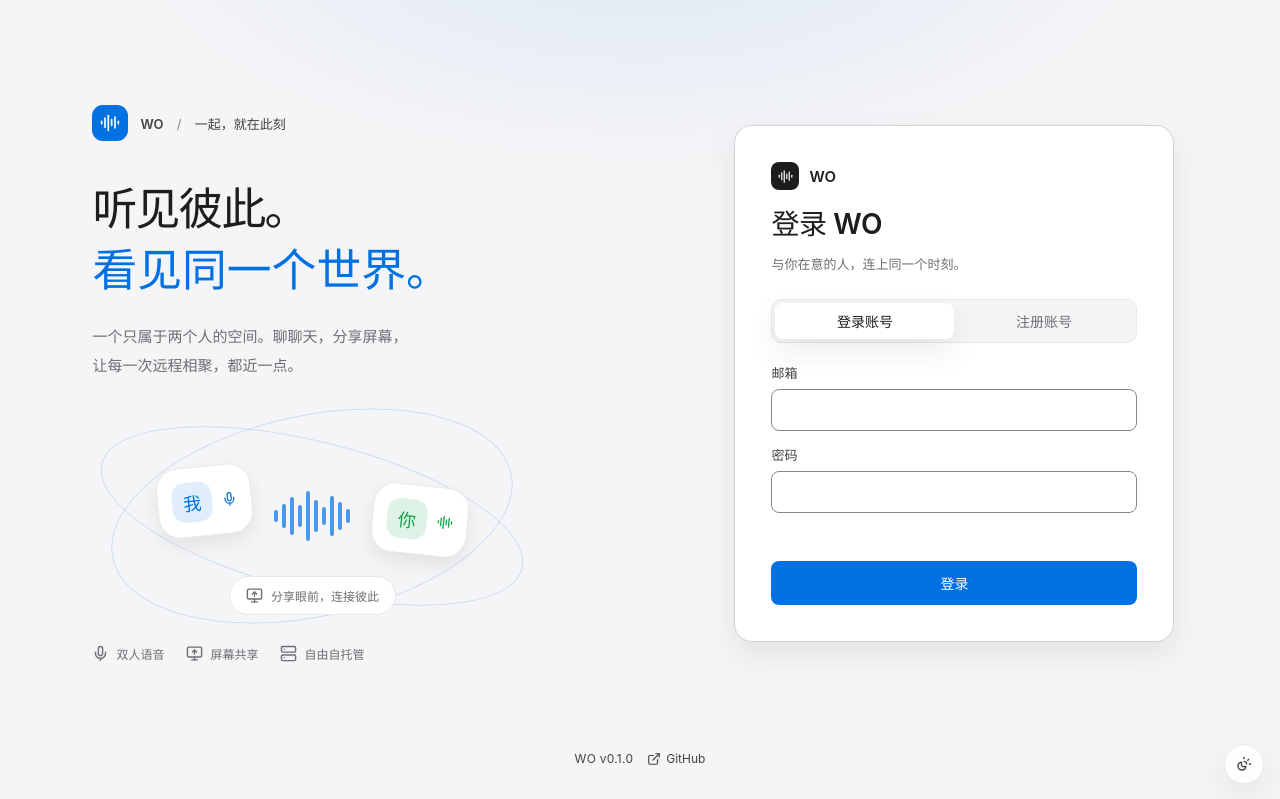
Test case: desktop account and room workflow › registers with display-name validation and opens the home surface
The image size is (1280, 799).
Expected: the 2nd heading named "登录 WO" is shown, [771,207,882,241]
Click the 2nd tab named "注册账号" at (1044, 321), box [954,303,1133,339]
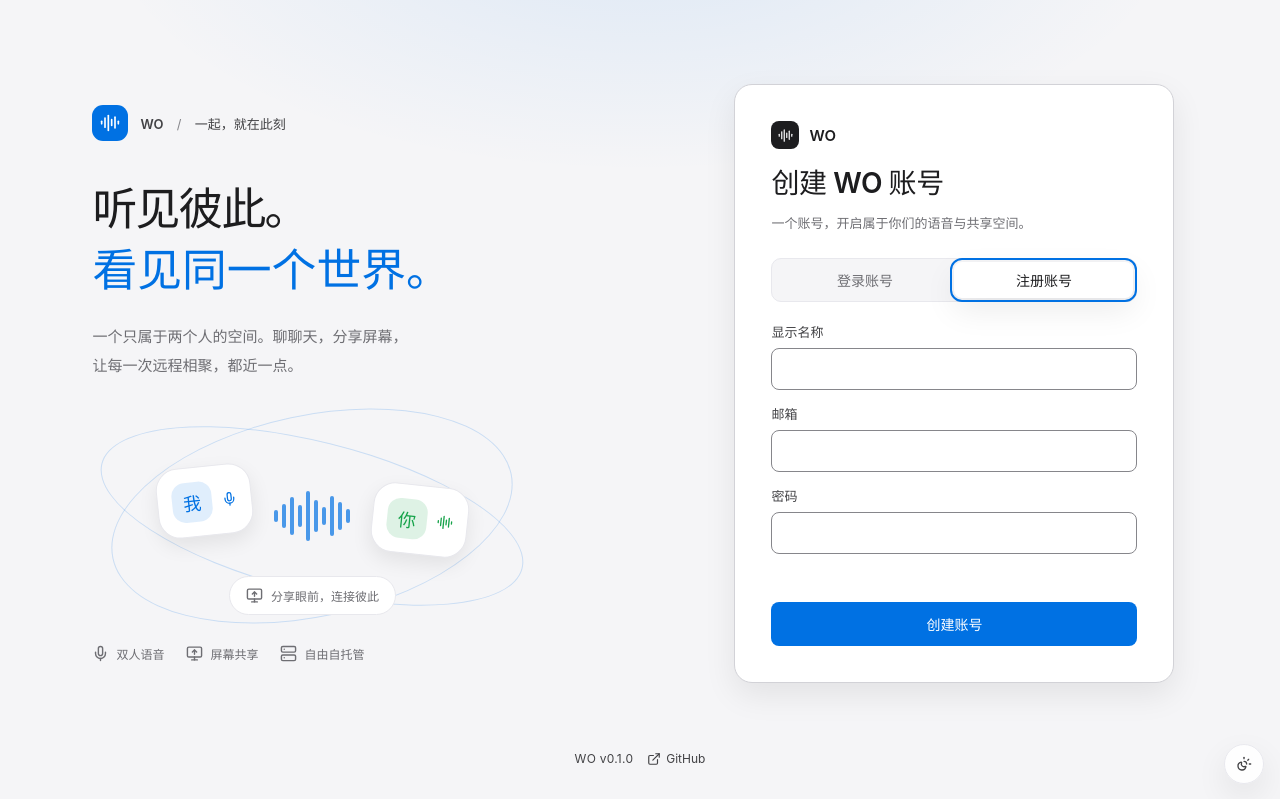
Type "new@example.cn" into the 2nd field named "邮箱" at (954, 451), box [771,430,1137,472]
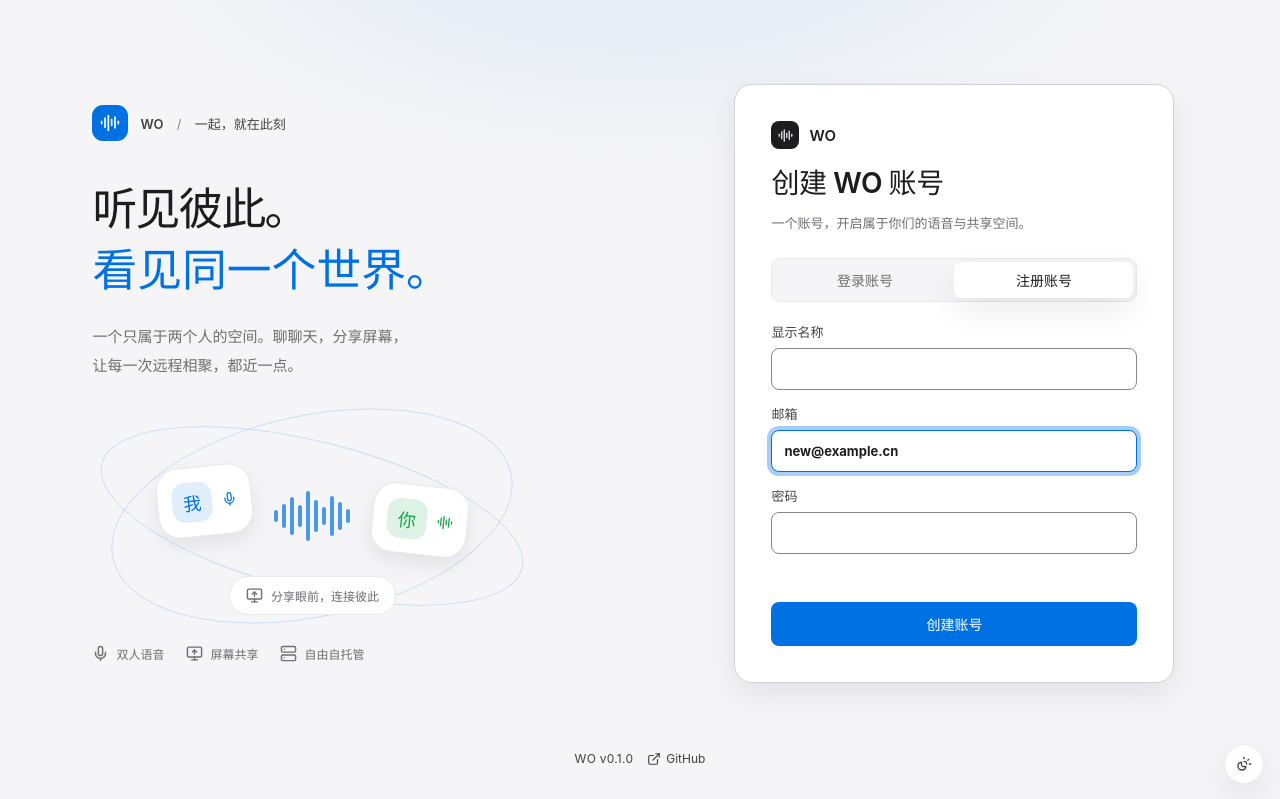
Type "long-password" into the password field named "密码" at (954, 533), box [771,512,1137,554]
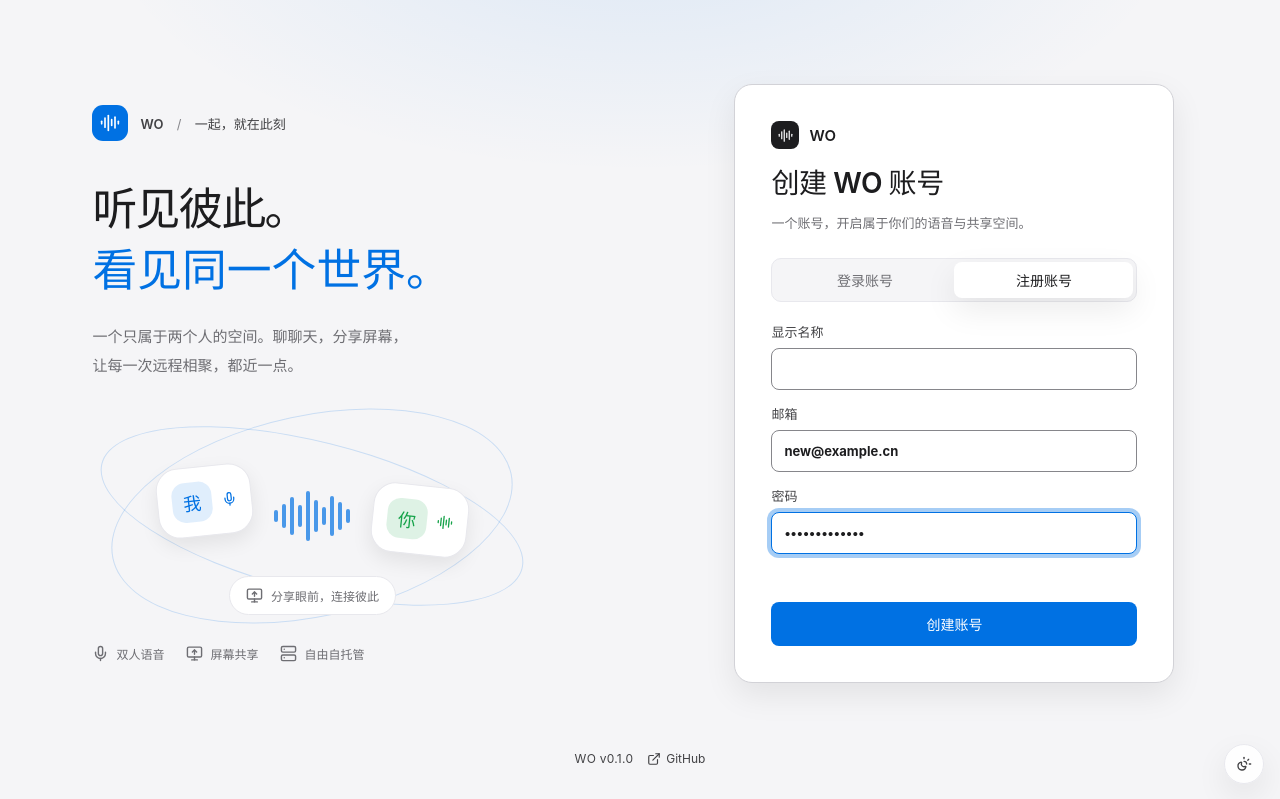
Click the button named "创建账号" at (954, 624), box [771,602,1137,646]
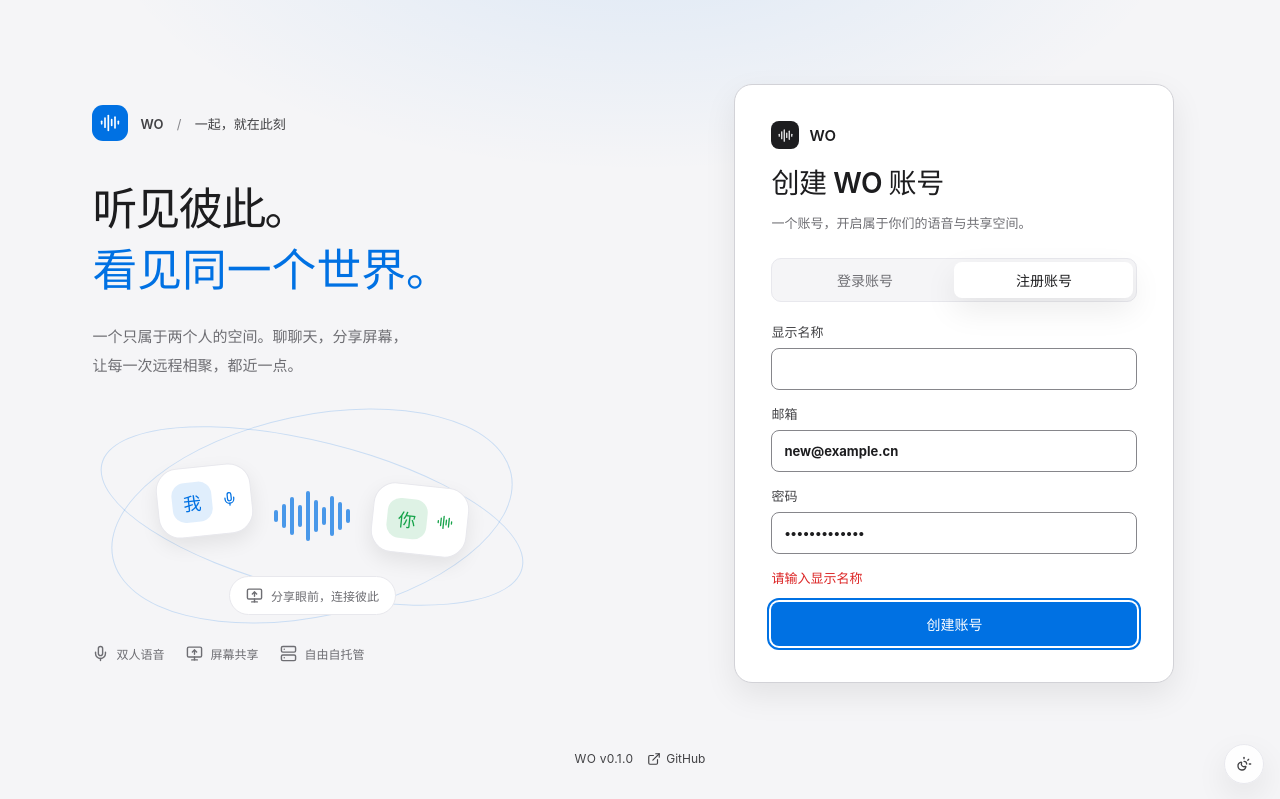
Expected: the text "请输入显示名称" is shown, [771,570,862,586]
Type "新用户" into the 1st field named "显示名称" at (954, 369), box [771,348,1137,390]
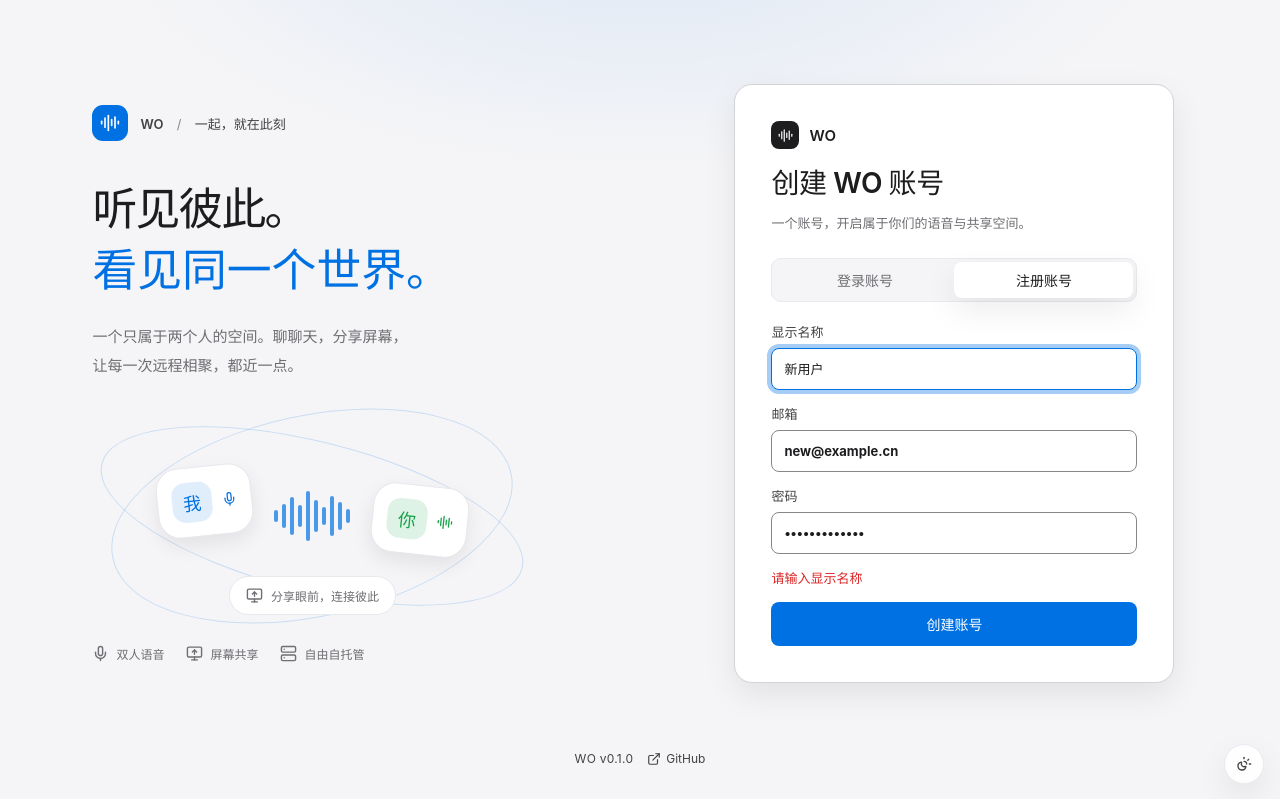
Click the button named "创建账号" at (954, 624), box [771,602,1137,646]
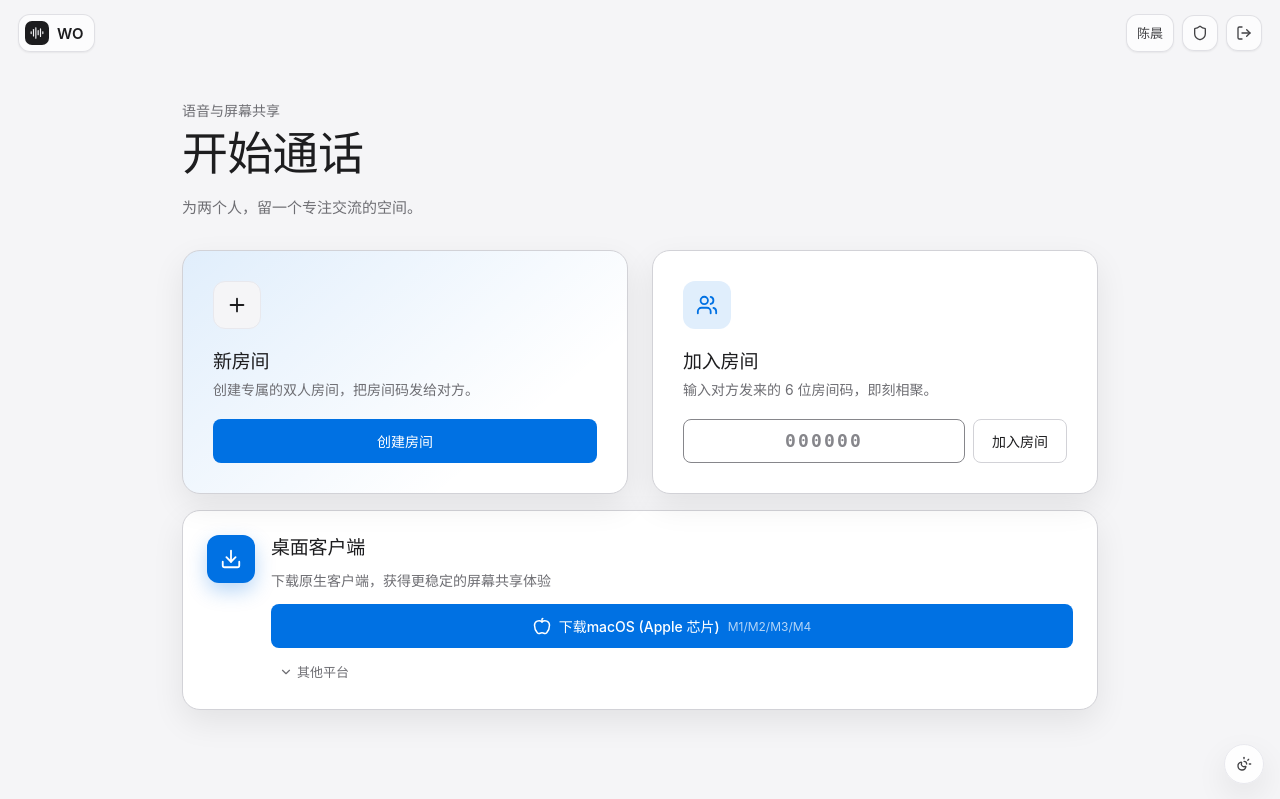
Now the 1st heading named "开始通话" is shown, box [182,125,363,181]
